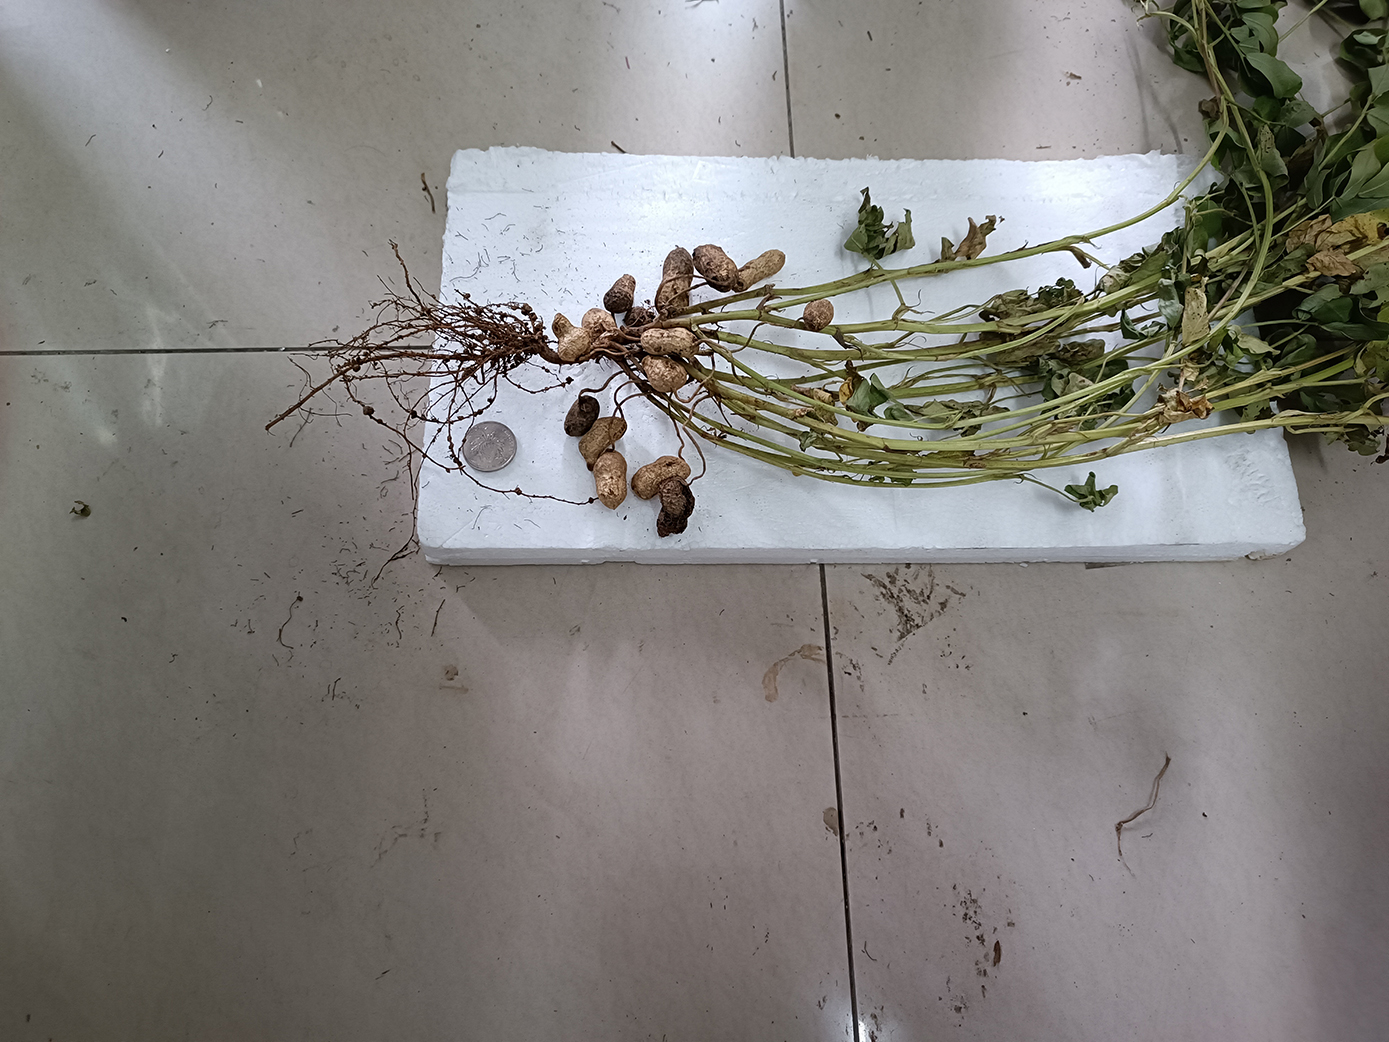h: (630, 456, 690, 501), (579, 416, 627, 467), (547, 312, 589, 361), (733, 250, 785, 286), (595, 449, 625, 510), (639, 352, 684, 392), (640, 328, 701, 355), (803, 298, 835, 332), (582, 306, 609, 334)
l: (653, 247, 693, 317), (655, 478, 695, 539), (690, 243, 736, 291), (564, 396, 599, 435), (606, 273, 634, 316), (622, 305, 648, 325)
